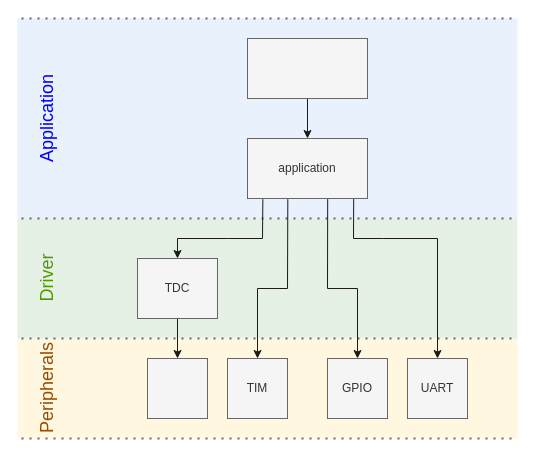
Some shapes in this 536 by 460 pixel diagram are drawn without their labels. The box of each missing label's shape, as (x1, y1, x2, y2) in pixels:
main: (246, 38, 368, 98)
SPI: (146, 358, 208, 418)
